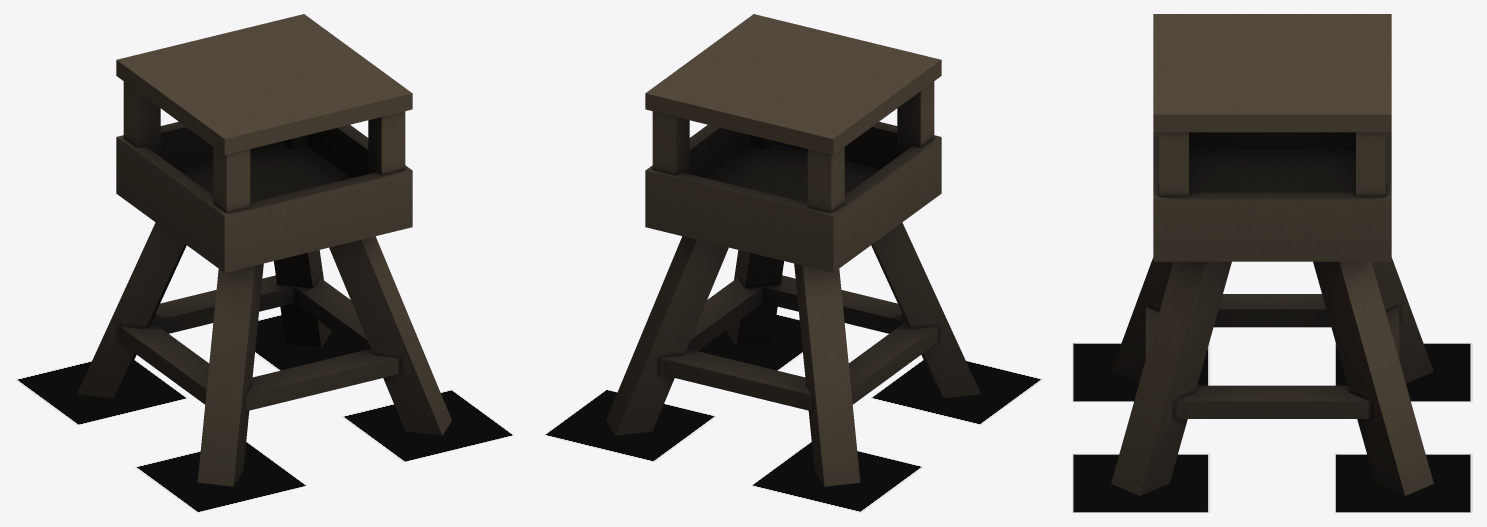
Rendered from 2x2_guard_tower.FBX.
The picture shows the model from 3 angles, left to right: view 1: azimuth 30°, elevation 25°; view 2: azimuth 150°, elevation 25°; view 3: azimuth 270°, elevation 25°; orthographic projection. The views are drawn at different scales.
Parts seen in each view (by area): view 1: 2x2_guard_tower, 2x2_guard_tower_soft_shadow; view 2: 2x2_guard_tower, 2x2_guard_tower_soft_shadow; view 3: 2x2_guard_tower, 2x2_guard_tower_soft_shadow.
Part boxes in pixels (box(x1,y1,x2,y2)): 2x2_guard_tower: box(77, 14, 451, 486); 2x2_guard_tower_soft_shadow: box(14, 314, 514, 512); 2x2_guard_tower: box(606, 14, 980, 486); 2x2_guard_tower_soft_shadow: box(543, 314, 1043, 512); 2x2_guard_tower: box(1111, 14, 1433, 495); 2x2_guard_tower_soft_shadow: box(1072, 342, 1472, 512).
Bounding box in the file's own units: 2242 × 2257 × 2229.
